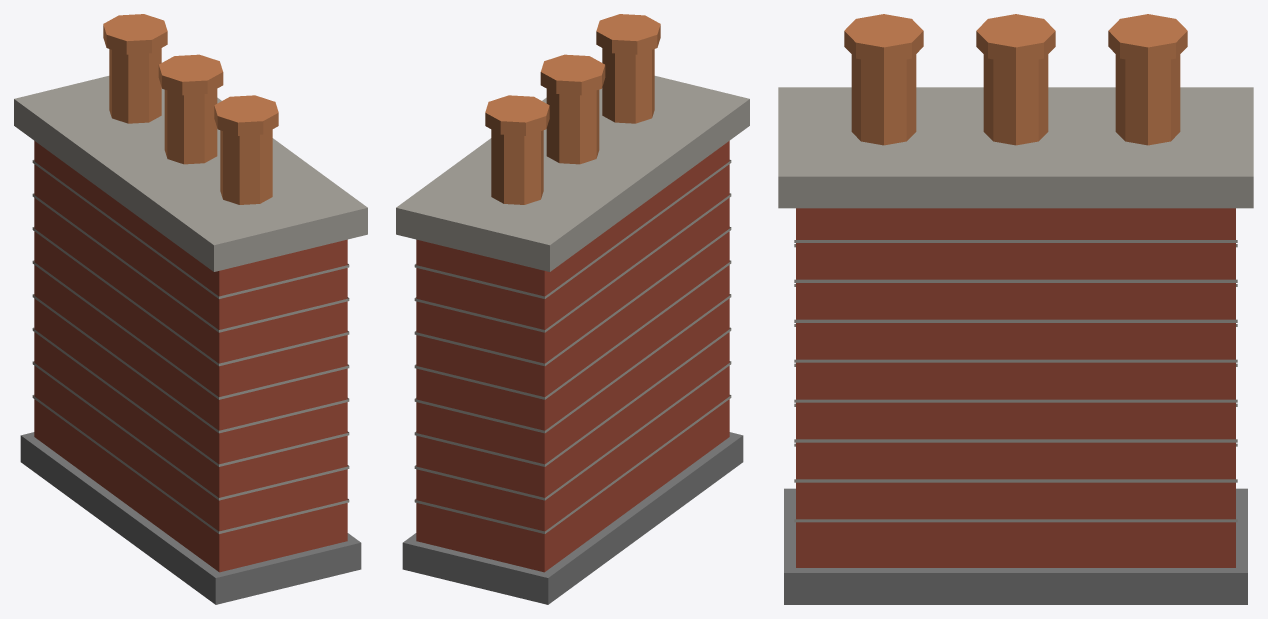
Rendered from roofprop_close.fbx.
The picture shows the model from 3 angles, left to right: view 1: azimuth 30°, elevation 25°; view 2: azimuth 150°, elevation 25°; view 3: azimuth 270°, elevation 25°; orthographic projection. The views are drawn at different scales.
Parts seen in each view (by area): view 1: a2003/700/roofprop_close; view 2: a2003/700/roofprop_close; view 3: a2003/700/roofprop_close.
Part boxes in pixels (x1,y1,x2,y2): a2003/700/roofprop_close: [14, 14, 367, 604]; a2003/700/roofprop_close: [396, 14, 749, 604]; a2003/700/roofprop_close: [778, 14, 1253, 604].
Bounding box in the file's own units: 0.72 × 2 × 1.62.
